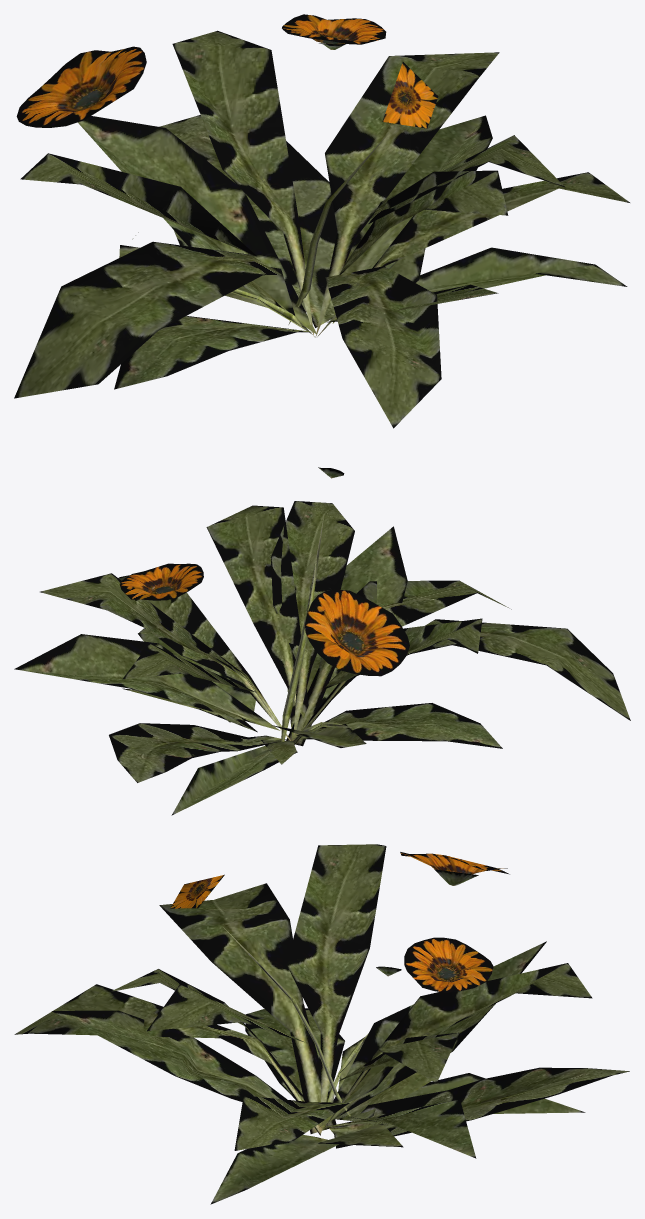
The model's file is flower_gazania.glb.
The picture shows the model from 3 angles, top to bottom: view 1: azimuth 30°, elevation 25°; view 2: azimuth 150°, elevation 25°; view 3: azimuth 270°, elevation 25°; orthographic projection. The views are drawn at different scales.
Visible parts, largest first — view 1: flower_gazania; view 2: flower_gazania; view 3: flower_gazania.
Boxes of the visible parts, x1=… form: flower_gazania: x1=14, y1=14, x2=629, y2=428; flower_gazania: x1=14, y1=467, x2=630, y2=815; flower_gazania: x1=14, y1=844, x2=629, y2=1204.
Size of the model in its own units: 0.3344 by 0.1584 by 0.326.
Materials: 1 (1 with a texture image).
